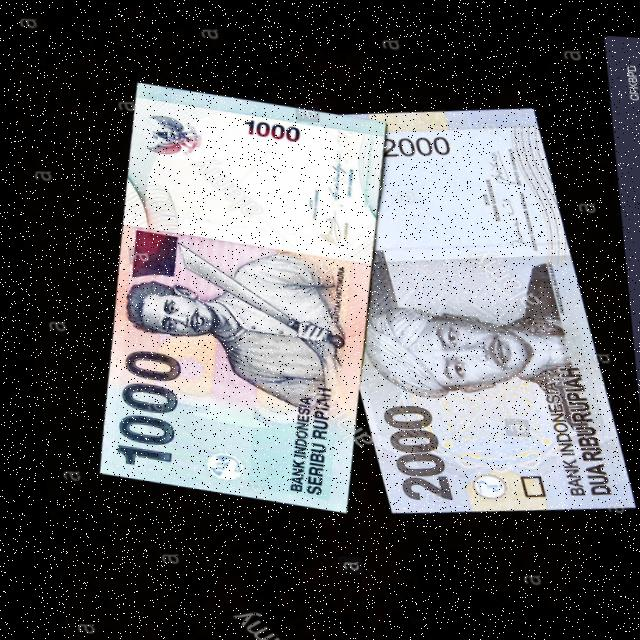1000IndonesianRupiah: (58, 81, 386, 505)
